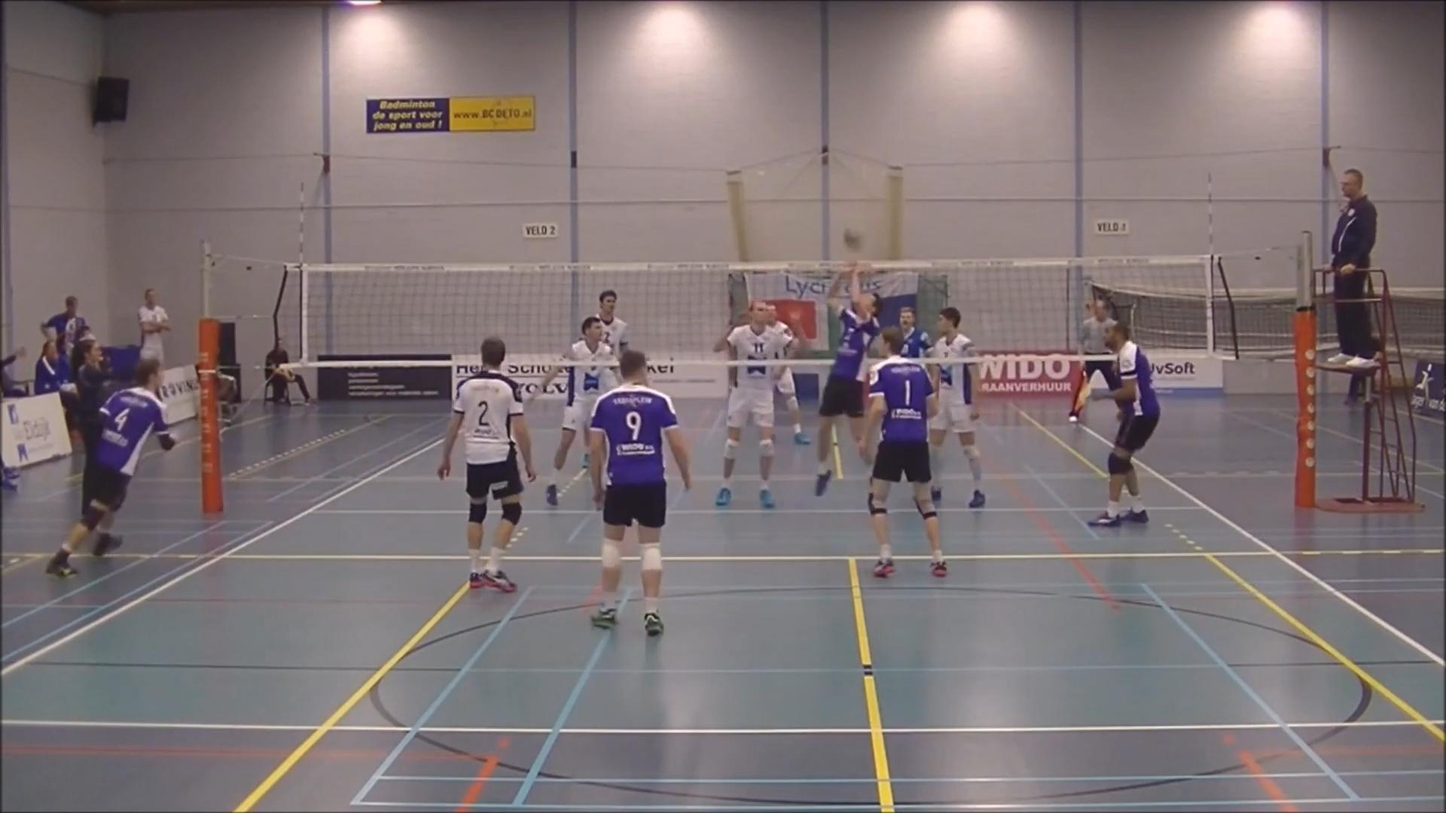Player: (590, 350, 691, 635), (45, 358, 175, 577), (438, 336, 535, 592), (868, 327, 947, 577), (715, 301, 795, 508), (531, 316, 616, 506), (1090, 324, 1160, 526), (927, 306, 985, 507), (775, 367, 810, 445), (596, 290, 630, 354), (900, 307, 931, 358)
Set: (808, 260, 886, 495)
ball: (837, 221, 866, 256)
